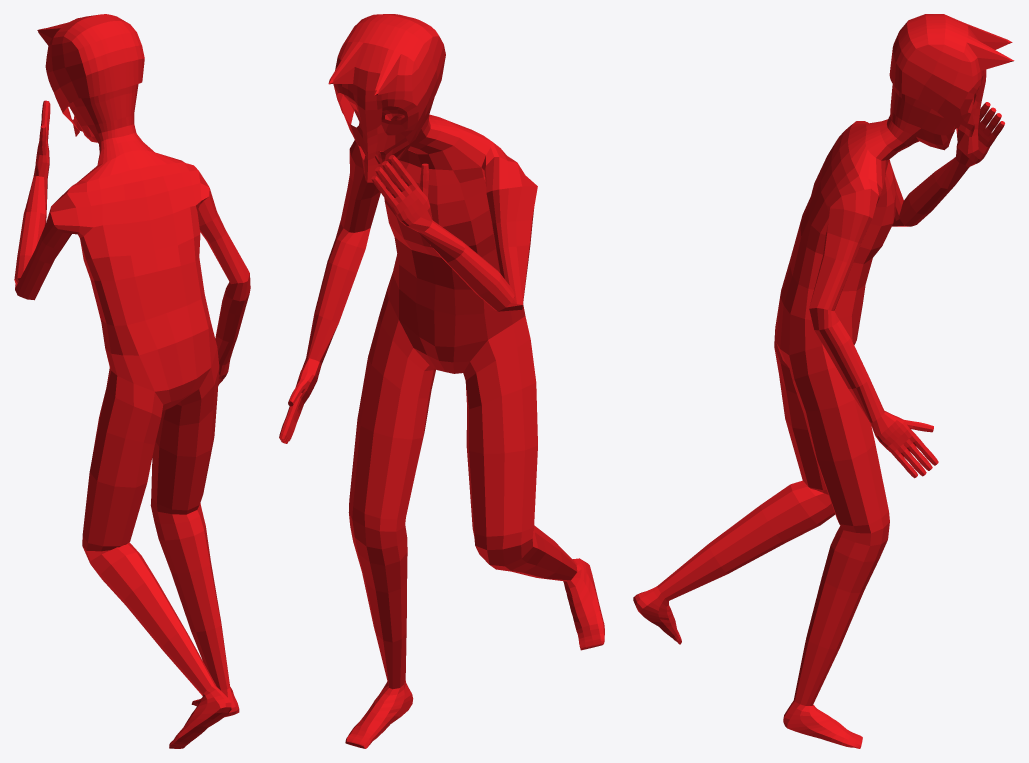
Rendered from correrE_000101.obj.
The picture shows the model from 3 angles, left to right: view 1: azimuth 30°, elevation 25°; view 2: azimuth 150°, elevation 25°; view 3: azimuth 270°, elevation 25°; orthographic projection. The views are drawn at different scales.
Parts seen in each view (by area): view 1: Plane.002_Plane.001; view 2: Plane.002_Plane.001; view 3: Plane.002_Plane.001.
Part boxes in pixels (<box>): Plane.002_Plane.001: <box>14,14,250,748</box>; Plane.002_Plane.001: <box>279,14,604,748</box>; Plane.002_Plane.001: <box>633,14,1014,748</box>.
Bounding box in the file's own units: 2.12 × 6.76 × 3.39.
